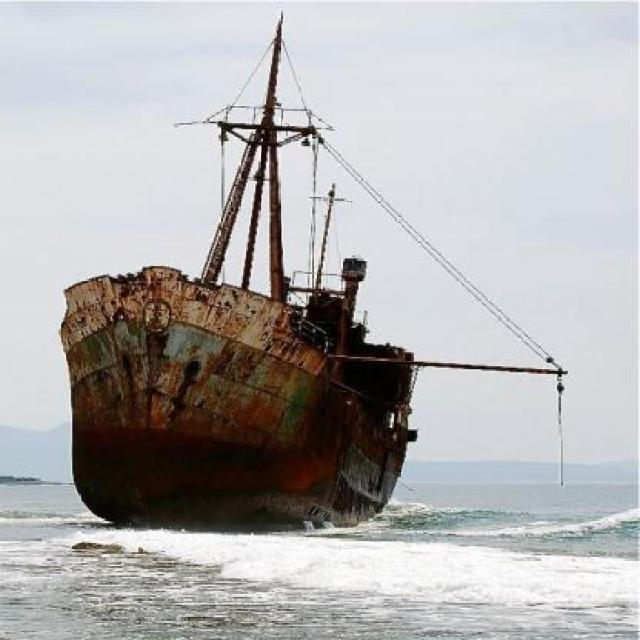corrosion: (62, 274, 420, 524)
